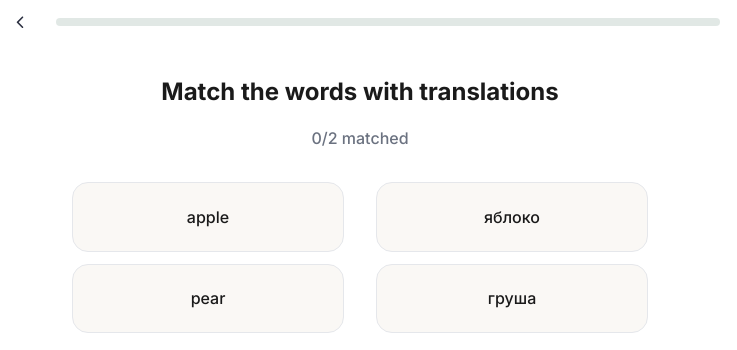
WordsMatchingPage › selecting matching En + Ru cards increments matched
What coordinates should you click on to do the following:
click the button "apple"
I would click on:
 (208, 217)
Its box is [72,182,344,252].
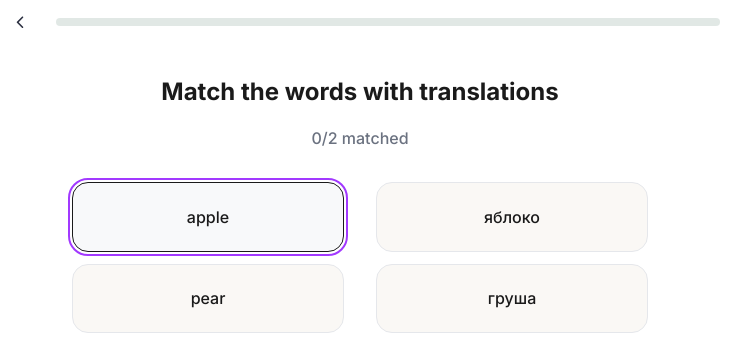
What coordinates should you click on to do the following:
click the button "яблоко"
I would click on:
 (512, 217)
Its box is [376,182,648,252].
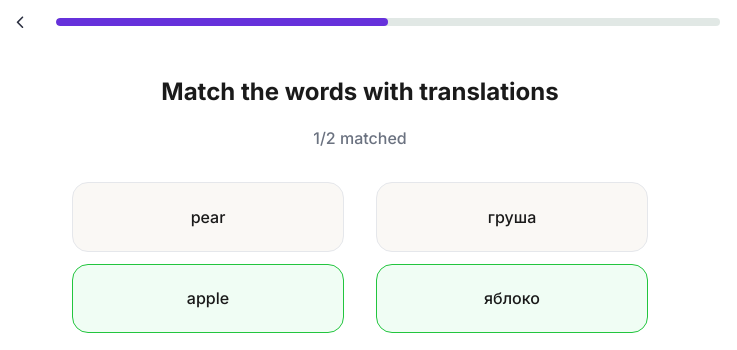
Expected: the text "1/2 matched" is shown, [313,126,407,150]
